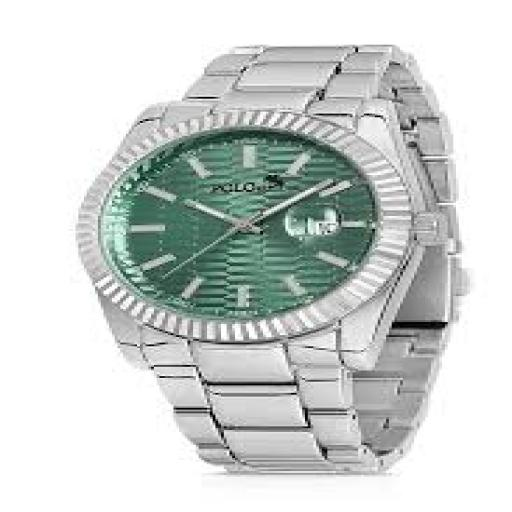KolSaati: (41, 26, 490, 456)
